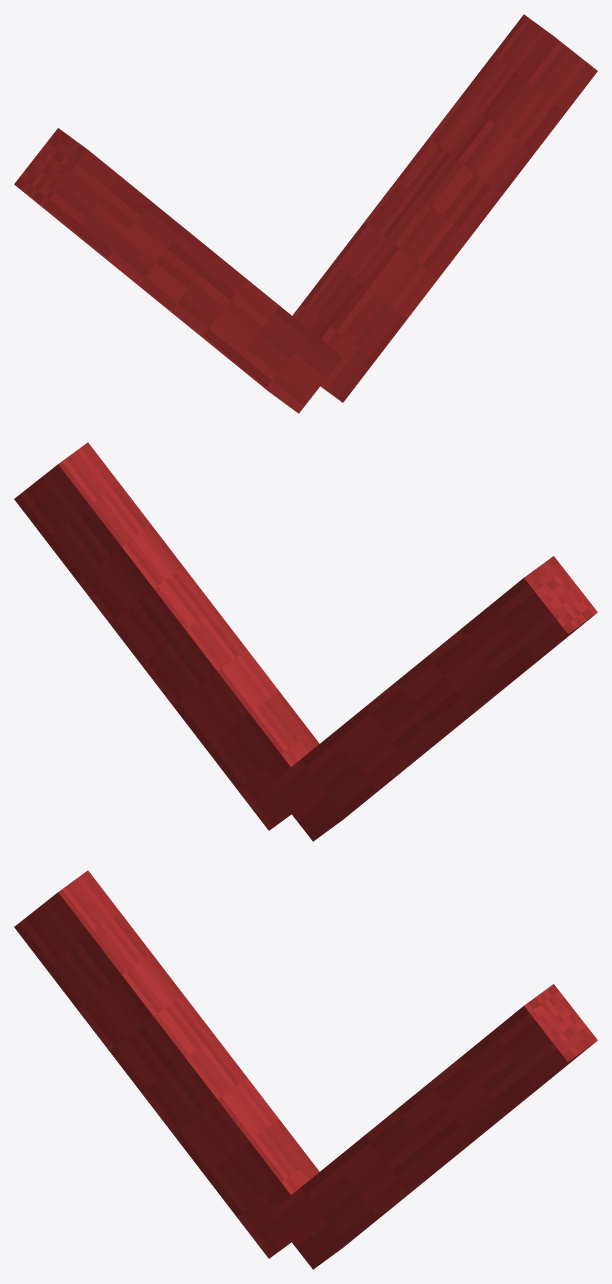
Rendered from cruz.glb.
3 views of the same model, one above another, from view 1: azimuth 30°, elevation 25°; view 2: azimuth 150°, elevation 25°; view 3: azimuth 330°, elevation 25° (orthographic).
Visible parts, largest first — view 1: cruz; view 2: cruz; view 3: cruz.
Boxes of the visible parts, x1=… form: cruz: x1=14, y1=14, x2=597, y2=413; cruz: x1=14, y1=442, x2=597, y2=841; cruz: x1=14, y1=870, x2=597, y2=1269.
Size of the model in its own units: 1.07 by 0.582 by 0.1.
1 material, 1 textured.
